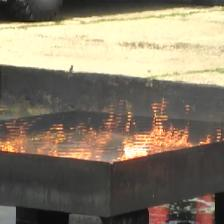fire: (0, 98, 224, 160)
